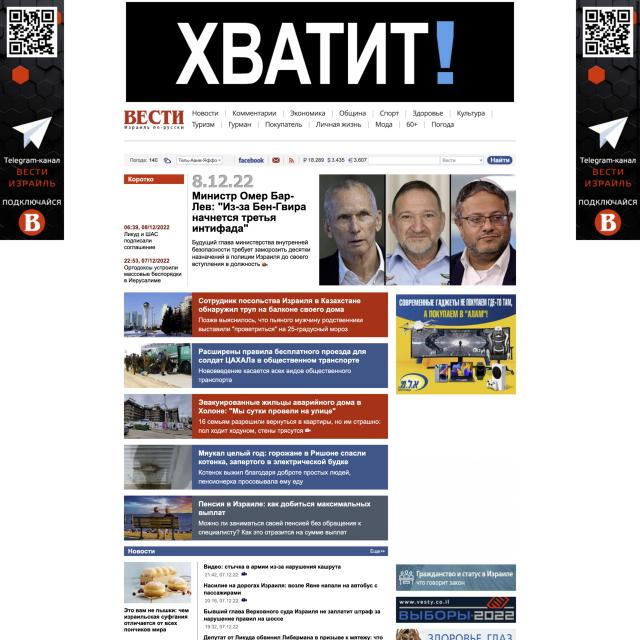logo: (122, 106, 187, 134)
navigation: (190, 107, 498, 133)
